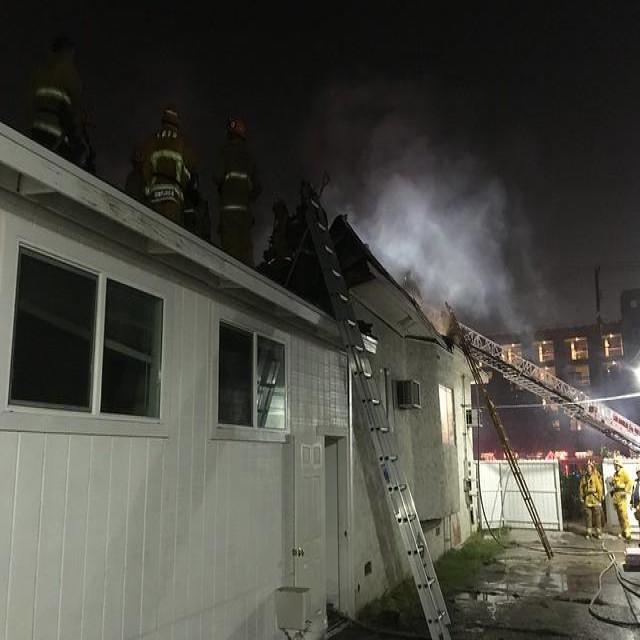smoke: (350, 142, 542, 320)
